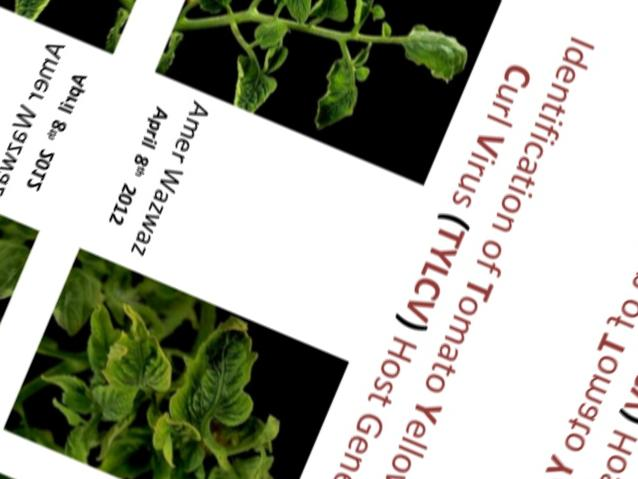Tomato leaf yellow virus: (78, 295, 193, 431), (165, 313, 279, 448), (304, 47, 381, 147), (387, 12, 483, 90), (321, 0, 400, 30)
